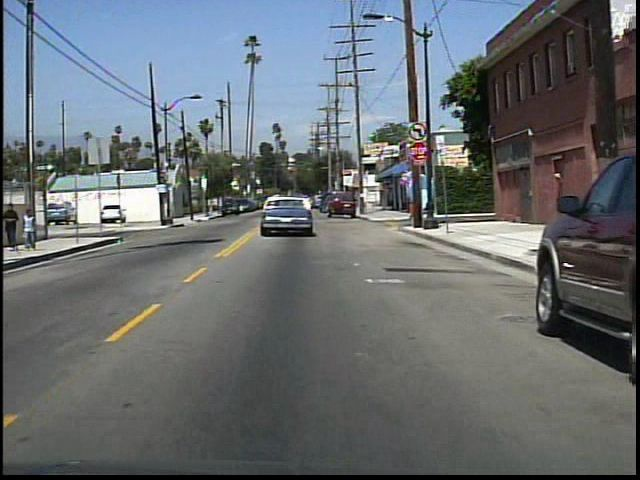person: (24, 206, 44, 252), (7, 200, 25, 251)
